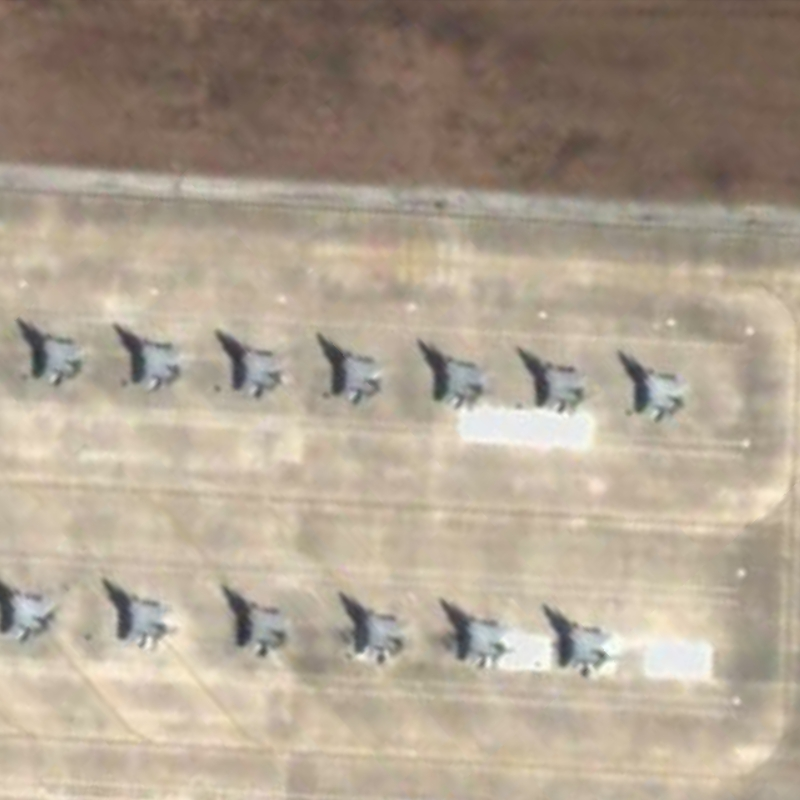A13: (334, 584, 414, 669), (220, 581, 298, 663), (437, 593, 514, 674), (541, 599, 616, 682), (103, 573, 180, 653), (213, 324, 290, 402), (620, 345, 691, 428), (513, 340, 589, 417), (113, 322, 189, 398), (13, 313, 88, 389), (318, 329, 389, 408), (419, 337, 492, 412), (1, 571, 62, 647)
